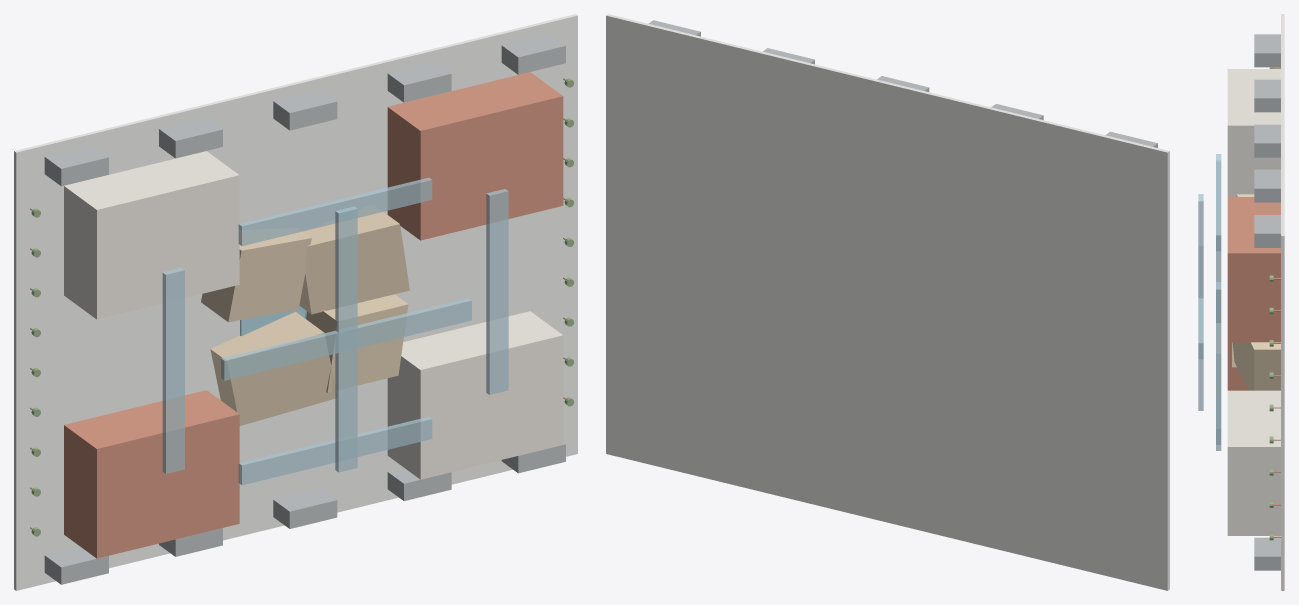
The model's file is sky_bridge_forum.glb.
The picture shows the model from 3 angles, left to right: view 1: azimuth 30°, elevation 25°; view 2: azimuth 150°, elevation 25°; view 3: azimuth 270°, elevation 25°; orthographic projection. The views are drawn at different scales.
Visible parts, largest first — view 1: site_base, forum_block_3, forum_block_2, forum_block_0, forum_block_1, forum_wedge_0, forum_wedge_3, forum_wedge_2, bridge_center_y, forum_wedge_1, bridge_center_x, bridge_ew_1 (+13 smaller); view 2: site_base; view 3: forum_block_1, forum_block_3, forum_block_2, site_base, forum_wedge_1, bridge_center_y, bridge_ew_2, north_arcade_0, north_arcade_1, north_arcade_2, north_arcade_3, south_arcade_4 (+6 smaller).
Part boxes in pixels (bbox=[...]): site_base: bbox=[14, 14, 577, 590]; forum_block_3: bbox=[387, 72, 563, 240]; forum_block_2: bbox=[64, 151, 239, 319]; forum_block_0: bbox=[64, 390, 239, 558]; forum_block_1: bbox=[387, 311, 563, 479]; forum_wedge_0: bbox=[210, 311, 337, 425]; forum_wedge_3: bbox=[299, 204, 409, 314]; forum_wedge_2: bbox=[201, 228, 311, 322]; bridge_center_y: bbox=[335, 206, 357, 472]; forum_wedge_1: bbox=[305, 294, 408, 392]; bridge_center_x: bbox=[221, 298, 471, 380]; bridge_ew_1: bbox=[162, 268, 184, 473]; site_base: bbox=[606, 14, 1169, 590]; forum_block_1: bbox=[1227, 390, 1280, 535]; forum_block_3: bbox=[1227, 197, 1280, 342]; forum_block_2: bbox=[1227, 69, 1280, 196]; site_base: bbox=[1281, 14, 1284, 590]; forum_wedge_1: bbox=[1232, 342, 1280, 390]; bridge_center_y: bbox=[1198, 194, 1203, 410]; bridge_ew_2: bbox=[1216, 282, 1221, 450]; north_arcade_0: bbox=[1254, 34, 1280, 67]; north_arcade_1: bbox=[1254, 79, 1280, 112]; north_arcade_2: bbox=[1254, 124, 1280, 157]; north_arcade_3: bbox=[1254, 169, 1280, 202]; south_arcade_4: bbox=[1254, 537, 1280, 570].
Size of the model in its own units: 118 by 88 by 19.4.
